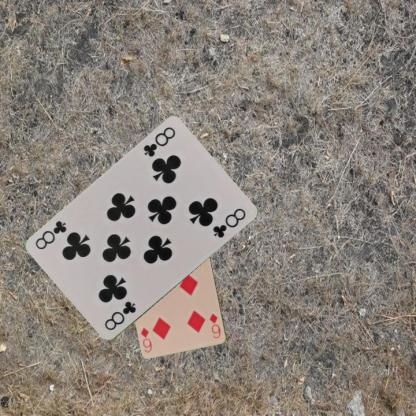6d: (207, 311, 222, 340)
8c: (140, 124, 177, 159), (101, 299, 138, 332)
